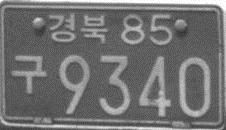0: (178, 55, 211, 118)
3: (98, 54, 130, 115)
4: (136, 54, 172, 118)
5: (148, 13, 173, 46)
8: (119, 13, 146, 46)
9: (58, 53, 91, 116)
경북_O: (47, 12, 108, 44)
구: (10, 53, 48, 95)
